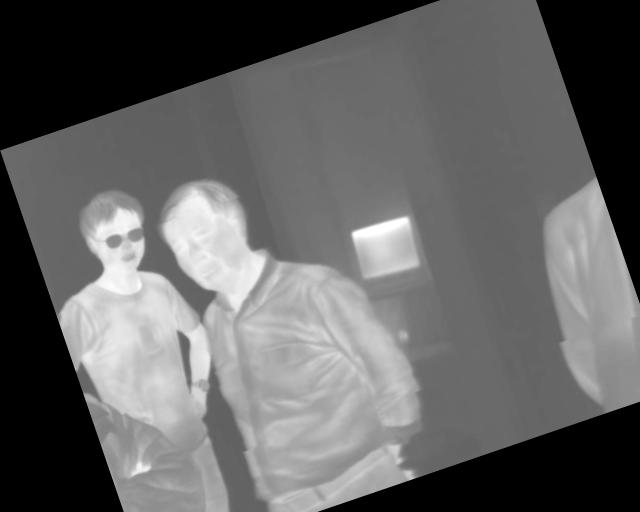face: (146, 167, 267, 304), (70, 180, 160, 283)
